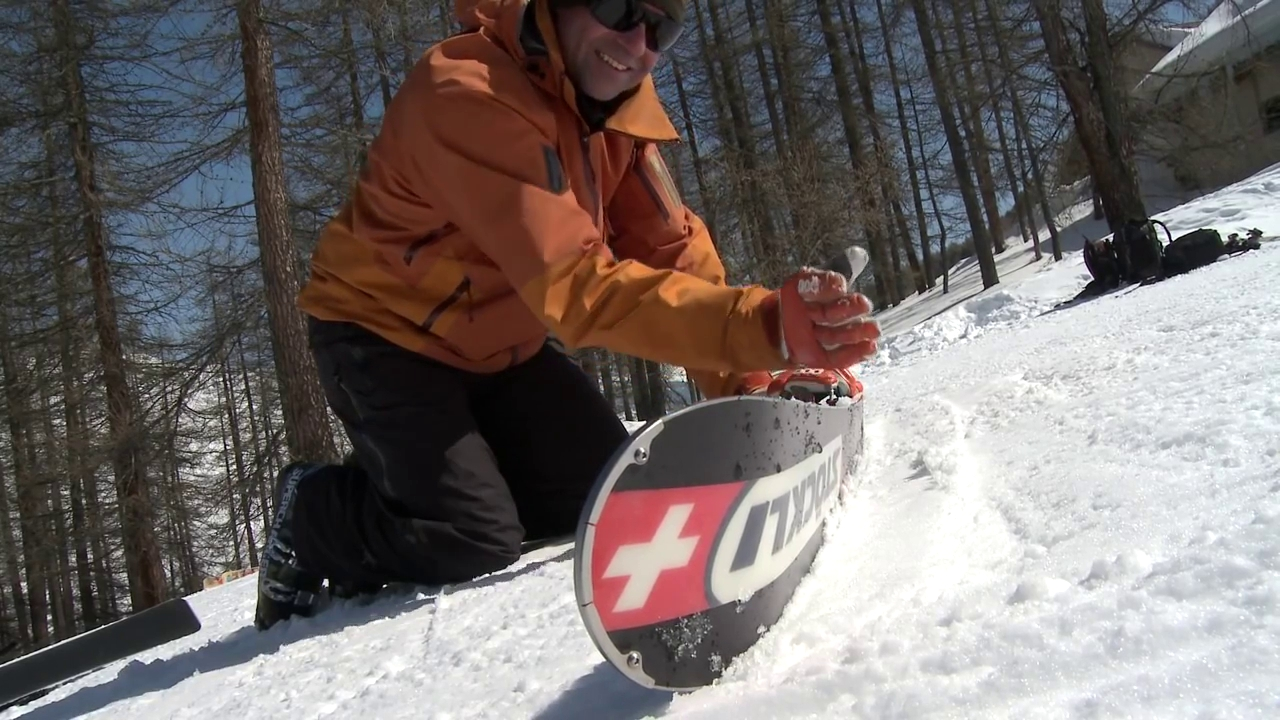person: (254, 1, 884, 629)
